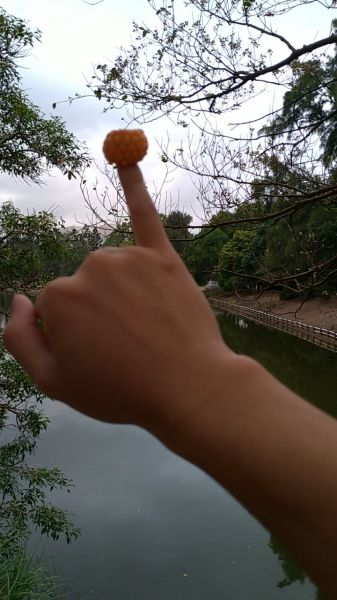eggs: (102, 129, 149, 166)
